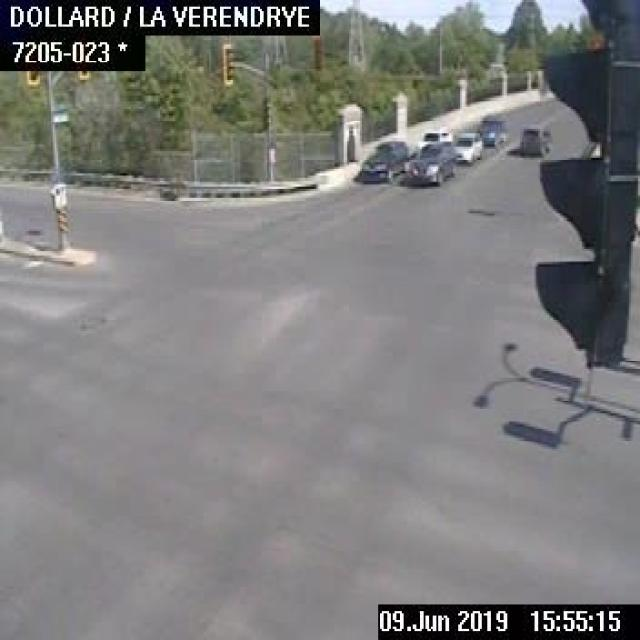vehicle: (404, 140, 455, 184), (356, 142, 409, 182), (518, 120, 551, 156), (452, 130, 483, 163), (478, 116, 508, 148), (421, 128, 451, 142)
